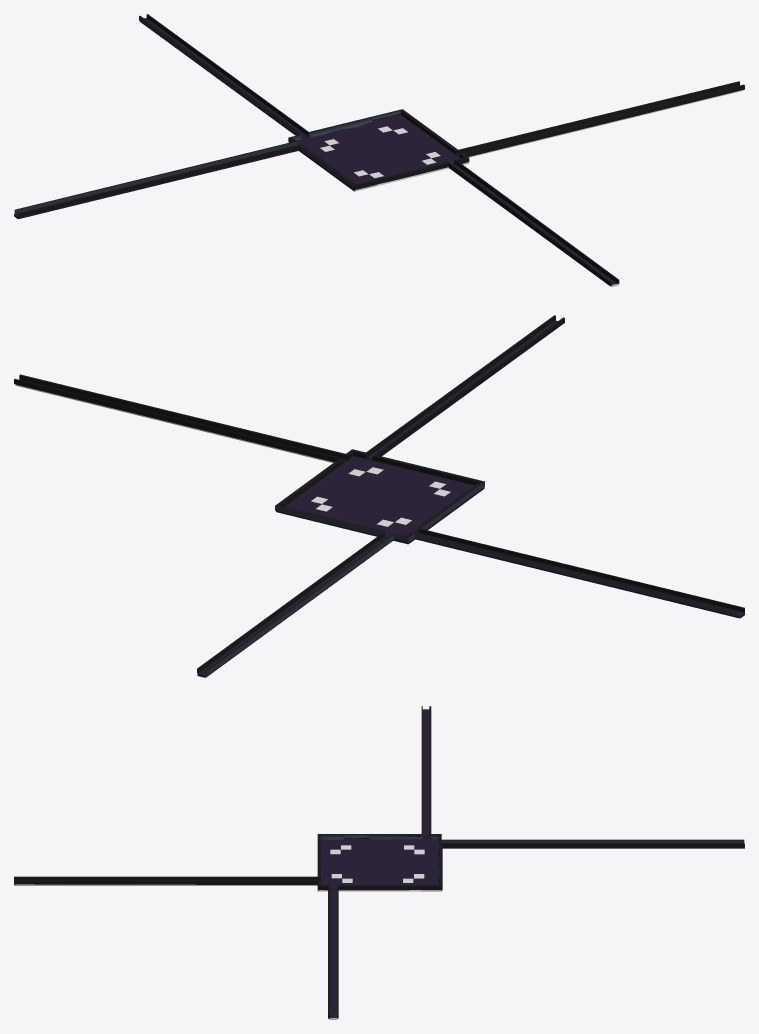
File: salaJEFE2.fbx
3 renders of one model, top to bottom at view 1: azimuth 30°, elevation 25°; view 2: azimuth 150°, elevation 25°; view 3: azimuth 270°, elevation 25°, orthographic. The views are drawn at different scales.
Visible parts, largest first — view 1: sueloBOSS2, paredes_der_abajoBOSS2, paredes_izq_arribaBOSS2, conjunto_trampas; view 2: sueloBOSS2, paredes_der_abajoBOSS2, paredes_izq_arribaBOSS2, conjunto_trampas; view 3: sueloBOSS2, paredes_der_abajoBOSS2, paredes_izq_arribaBOSS2.
Part boxes in pixels (x1=…): sueloBOSS2: x1=14, y1=18, x2=743, y2=286; paredes_der_abajoBOSS2: x1=18, y1=14, x2=744, y2=285; paredes_izq_arribaBOSS2: x1=14, y1=15, x2=403, y2=214; conjunto_trampas: x1=320, y1=126, x2=440, y2=178; sueloBOSS2: x1=15, y1=320, x2=744, y2=677; paredes_der_abajoBOSS2: x1=14, y1=315, x2=744, y2=673; paredes_izq_arribaBOSS2: x1=205, y1=481, x2=739, y2=675; conjunto_trampas: x1=311, y1=467, x2=450, y2=526; sueloBOSS2: x1=14, y1=709, x2=744, y2=1019; paredes_der_abajoBOSS2: x1=14, y1=706, x2=744, y2=1018; paredes_izq_arribaBOSS2: x1=318, y1=706, x2=744, y2=890.
Size of the model in its own units: 58673 by 476 by 58660.
